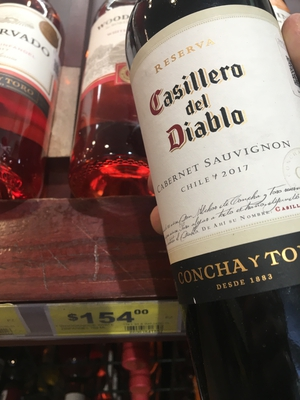casillero del diablo cabernet sauvignon: (125, 5, 300, 309)
